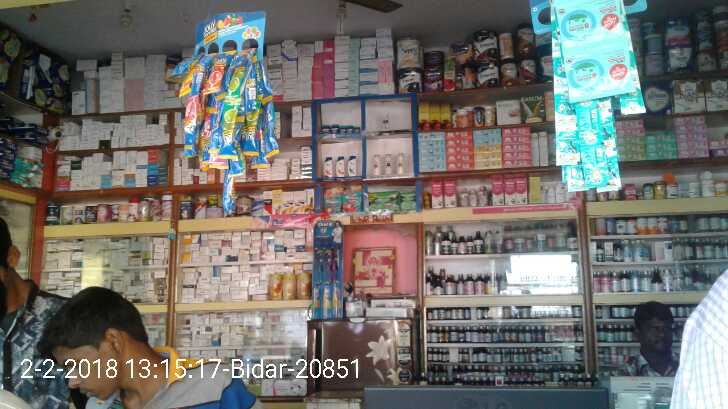beauty: (326, 237, 340, 321), (316, 241, 323, 320), (323, 156, 334, 177), (396, 151, 404, 176), (334, 156, 344, 175), (348, 155, 357, 175), (373, 151, 380, 176), (385, 153, 392, 176)
pharmacy: (324, 184, 343, 212), (342, 182, 360, 211), (367, 191, 397, 208), (400, 192, 413, 209)
